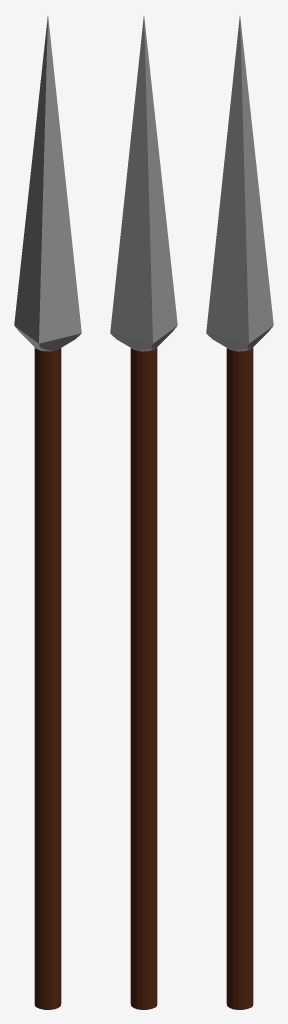
Rendered from Lance .fbx.
The picture shows the model from 3 angles, left to right: view 1: azimuth 30°, elevation 25°; view 2: azimuth 150°, elevation 25°; view 3: azimuth 330°, elevation 25°; orthographic projection.
Parts seen in each view (by area): view 1: Cube; view 2: Cube; view 3: Cube.
Part boxes in pixels (<box>): Cube: <box>14,16,81,1009</box>; Cube: <box>110,16,177,1009</box>; Cube: <box>206,16,273,1009</box>.
Bounding box in the file's own units: 11.6 × 256 × 11.6.
